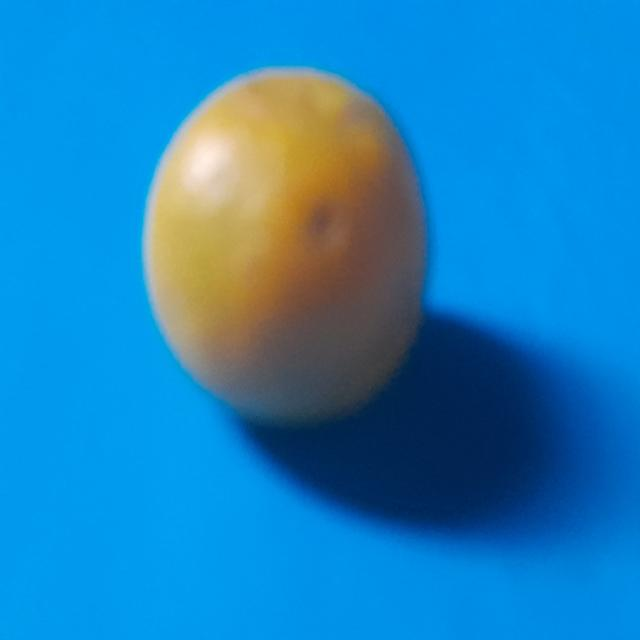greening: (138, 74, 427, 423)
